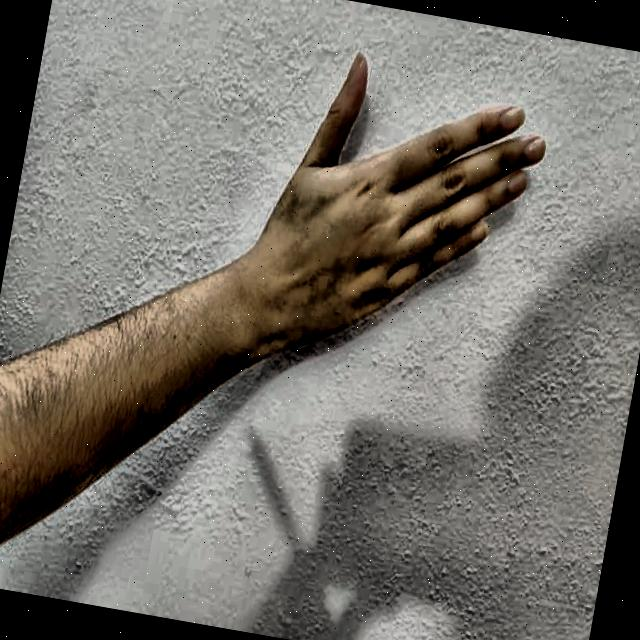Aa: (218, 6, 591, 424)
